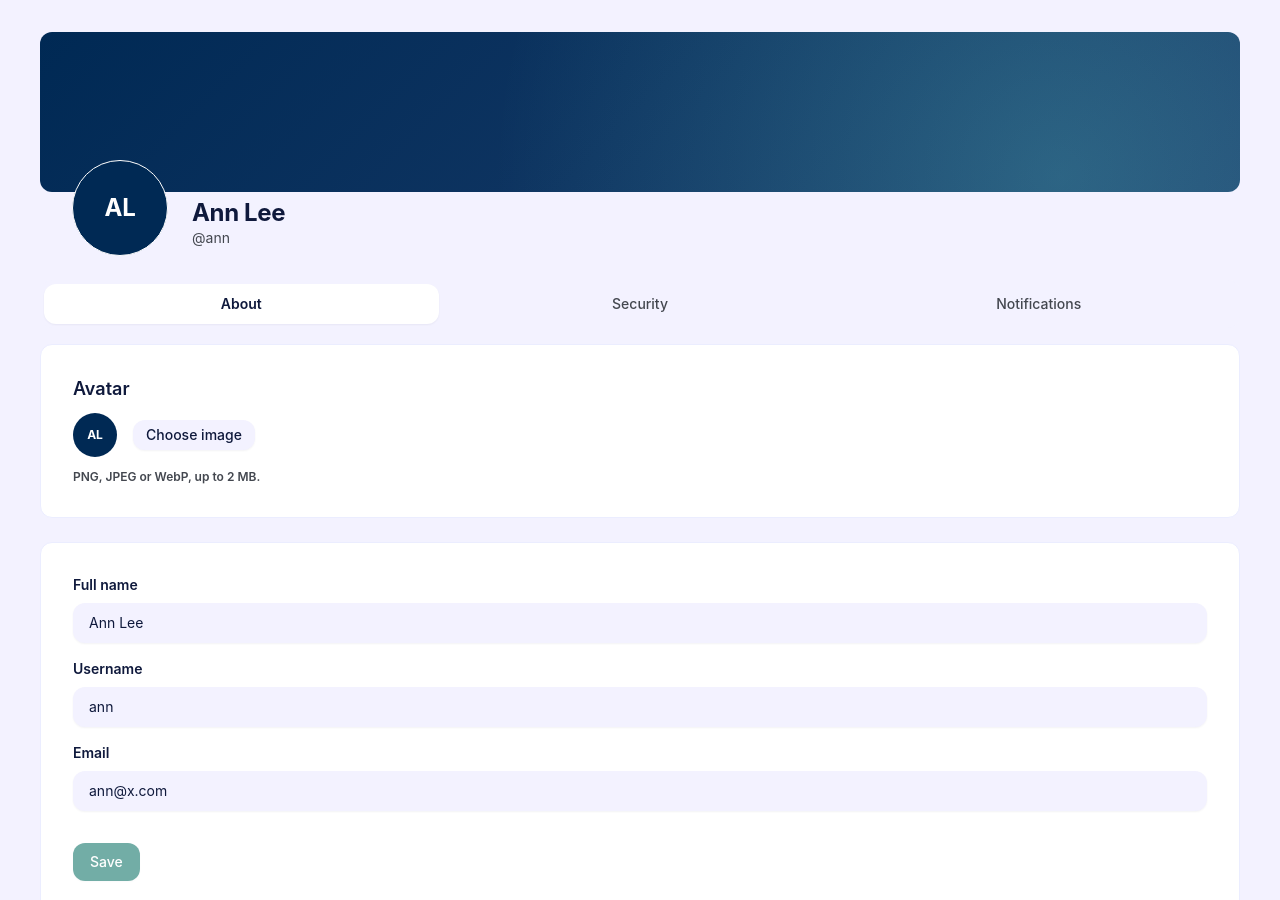
Scenario: About tab (PRF-02 to PRF-04, PRF-10) › disables Save until a field changed, then sends only the changed keys
Later steps or results of the test are not shown.
Expected: the button "Save" is disabled, x1=73 y1=843 x2=140 y2=881
Step 1. Type " Marie" into the field labelled "Full name" → (640, 623), box x1=73 y1=603 x2=1207 y2=643
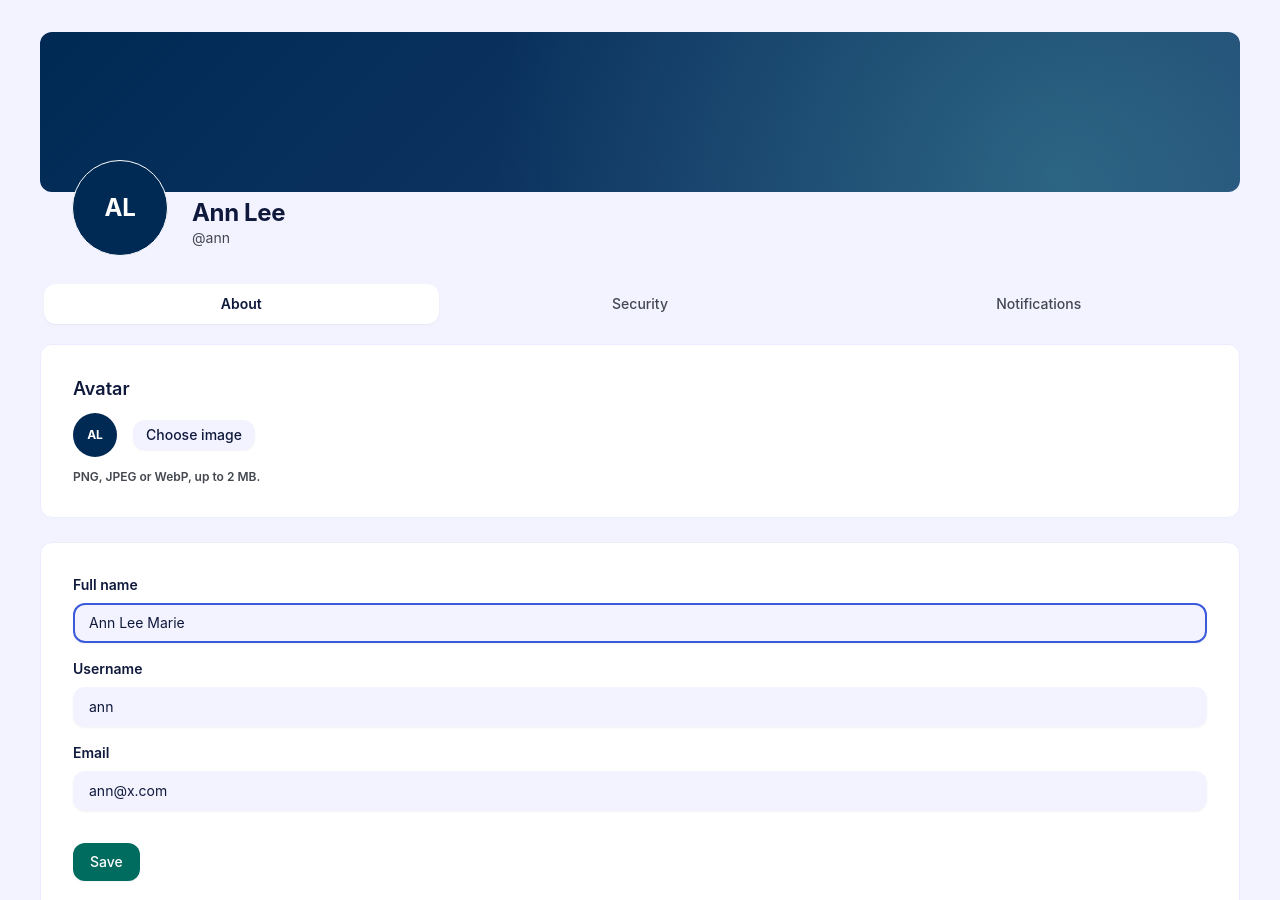
Result: the button "Save" is enabled at x1=73 y1=843 x2=140 y2=881
